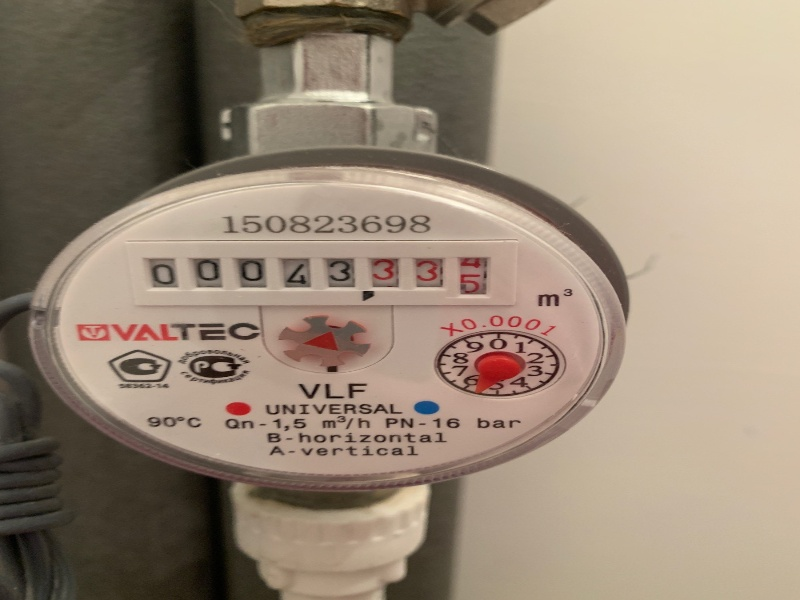dial: (125, 247, 495, 307)
